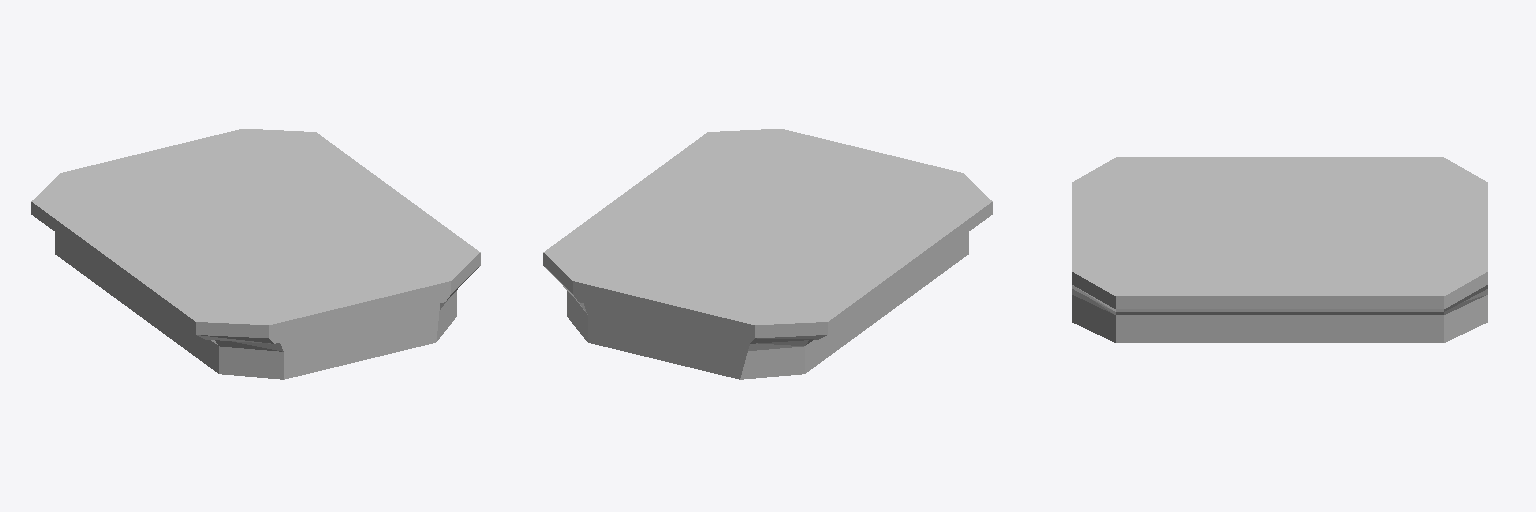
The model's file is bruecke_BS_mitte.obj.
3 views of the same model, side by side, from view 1: azimuth 30°, elevation 25°; view 2: azimuth 150°, elevation 25°; view 3: azimuth 270°, elevation 25° (orthographic).
Visible parts, largest first — view 1: bruecke_BS_mitte; view 2: bruecke_BS_mitte; view 3: bruecke_BS_mitte.
Boxes of the visible parts, x1=… form: bruecke_BS_mitte: x1=31, y1=129, x2=480, y2=379; bruecke_BS_mitte: x1=543, y1=129, x2=992, y2=379; bruecke_BS_mitte: x1=1072, y1=157, x2=1487, y2=342.
Size of the model in its own units: 15 by 2.92 by 19.